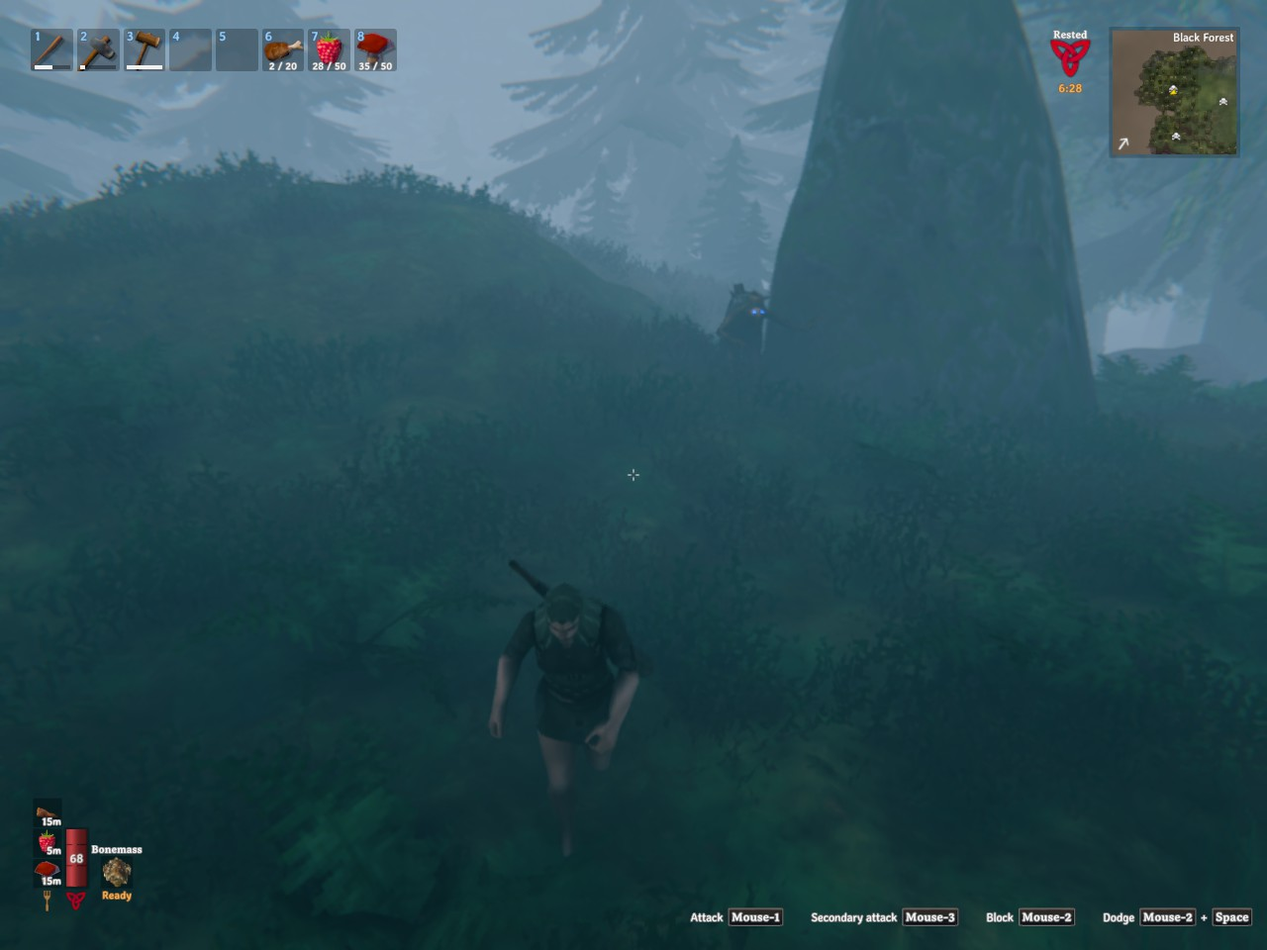Greydwarf: (717, 283, 765, 353)
